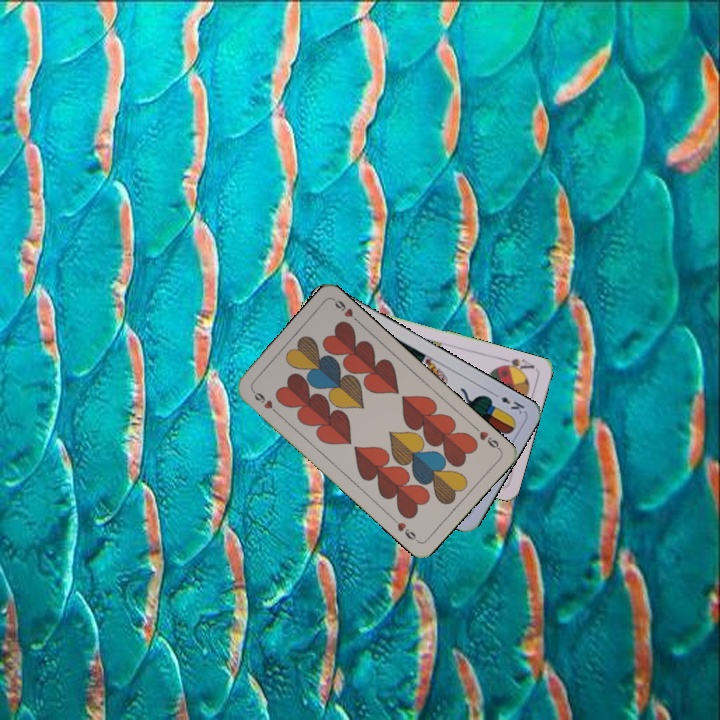EK: (489, 388, 527, 417)
H9: (470, 422, 503, 453), (248, 386, 281, 417)
SA: (496, 354, 537, 376)
